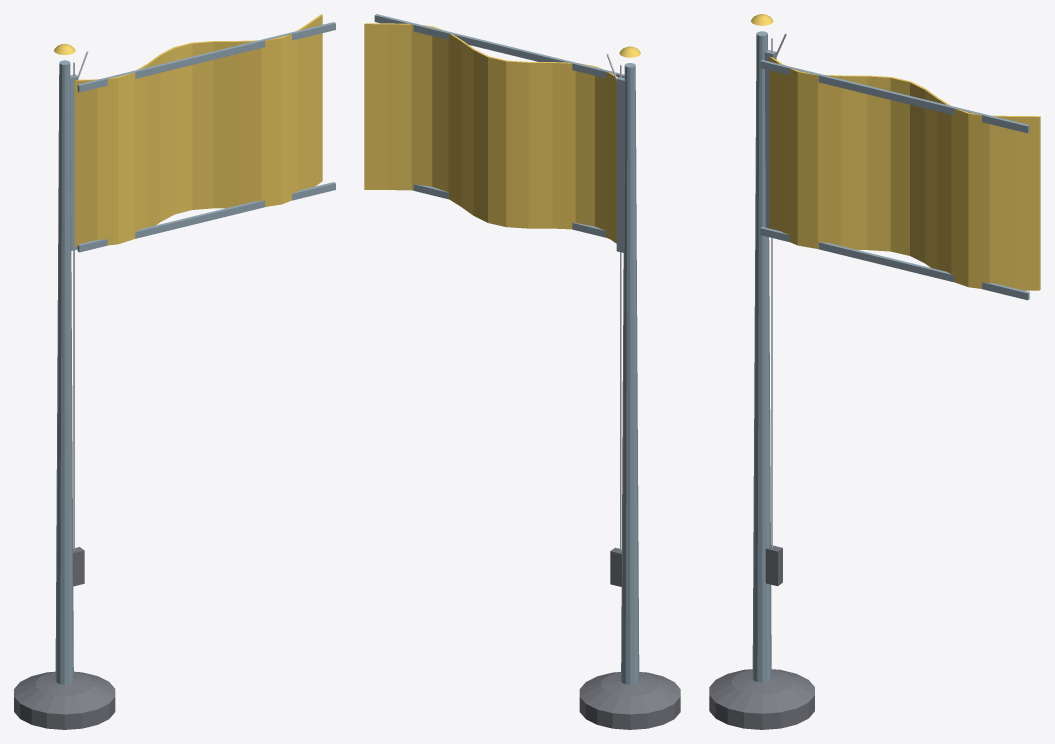
Rendered from animated-mechanisms-kit-flag-on-pole-886c4b8e__24642.glb.
3 renders of one model, left to right at view 1: azimuth 30°, elevation 25°; view 2: azimuth 150°, elevation 25°; view 3: azimuth 330°, elevation 25°, orthographic. The views are drawn at different scales.
Parts seen in each view (by area): view 1: flag/accent, flag-on-pole, flag/paint; view 2: flag/accent, flag-on-pole, flag/paint; view 3: flag/accent, flag-on-pole, flag/paint.
Boxes of the visible parts, x1,y1,x2,y2 form: flag/accent: (74,14,322,246); flag-on-pole: (14,44,115,729); flag/paint: (70,22,335,252); flag/accent: (364,23,617,243); flag-on-pole: (579,46,680,729); flag/paint: (374,14,624,252); flag/accent: (769,56,1040,290); flag-on-pole: (709,14,814,729); flag/paint: (760,50,1029,300).
Size of the model in its own units: 2.9 by 5.98 by 0.8273.
